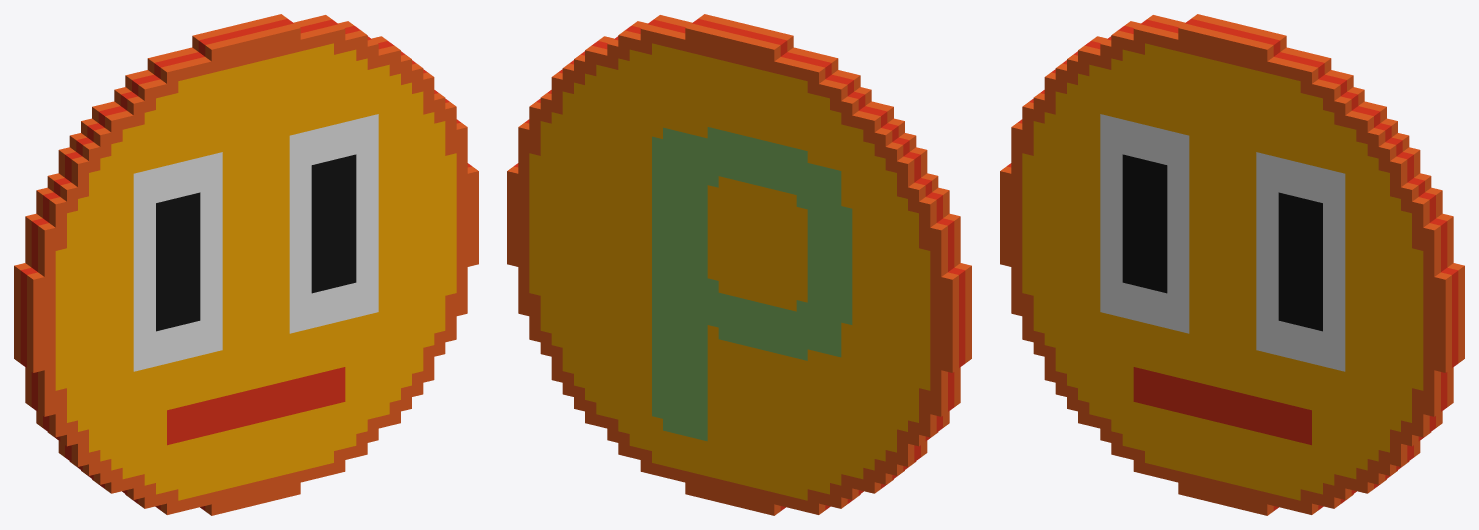
Rendered from coin.fbx.
3 views of the same model, side by side, from view 1: azimuth 30°, elevation 25°; view 2: azimuth 150°, elevation 25°; view 3: azimuth 330°, elevation 25° (orthographic).
Visible parts, largest first — view 1: coin; view 2: coin; view 3: coin.
Part boxes in pixels (bbox=[...]): coin: bbox=[14, 14, 478, 515]; coin: bbox=[507, 14, 971, 515]; coin: bbox=[1000, 14, 1464, 515].
Bounding box in the file's own units: 0.3999 × 0.3999 × 0.03.
1 material, 1 textured.
